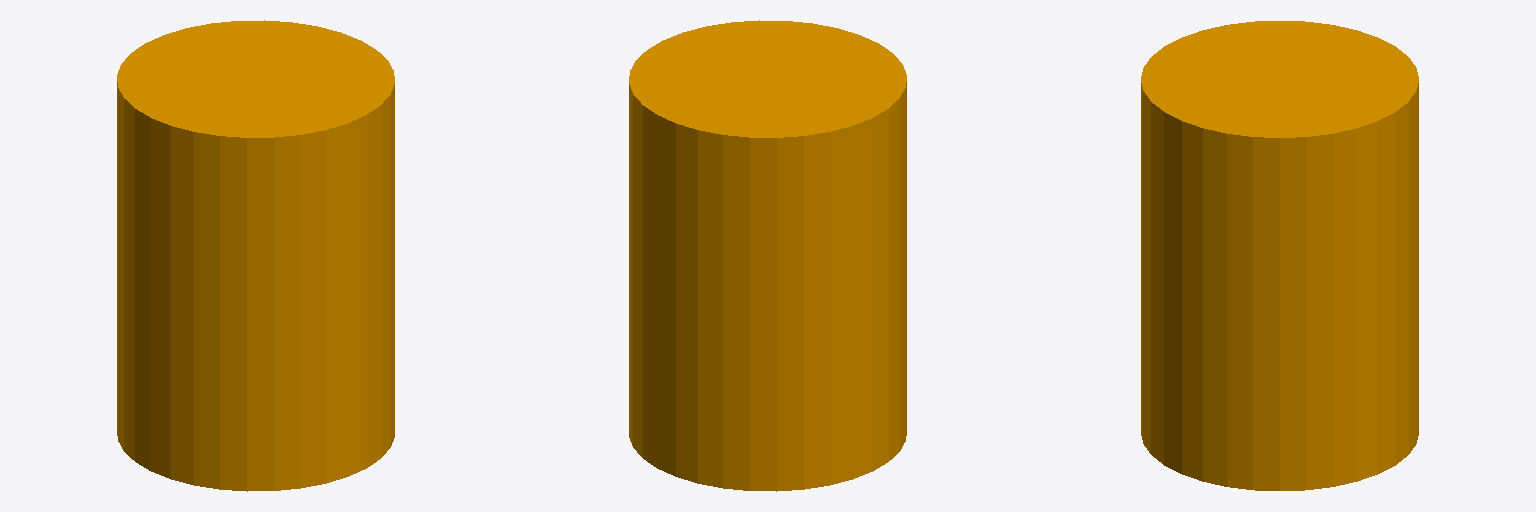
URDF robot description (can_1):
<?xml version="1.0"?>
<robot name="can_1">
	<link name="base">
	<inertial>
        	 <origin xyz="0 0 0.07" rpy="0 0 0"/>
        	 <mass value="0.05"/>
        	 <inertia ixx="0.000683333"  ixy="0"  ixz="0" iyy="0.000683333" iyz="0" izz="0.000683333" />
       </inertial>
	<visual>
                <origin xyz="0.0 0.0 0.055" rpy="0 0 0" />
		<geometry>
                         <!--<mesh filename="can/cokecan2.dae" scale="0.0254 0.0254 0.0254"/>-->
            <cylinder length="0.07" radius="0.025"/>
      		</geometry>
		<!--material>
                    <color rgba="0 0 1 1" />
		</material-->
		</visual>
  	 <collision>
		<origin xyz="0.0 0.0 -0.00255" rpy="0 0 0"/>
            <geometry>
       			 <!--mesh filename="can/cokecan.dae"  scale="0.0254 0.0254 0.0254"/-->
                         <cylinder length="0.07" radius="0.025"/>
            </geometry>
	    <material>
			<color rgba="1 0 0 1" />
	    </material>
        </collision>
	</link>
</robot>

--- Facts derived from the render (not from the file) ---
Views: 3 orthographic renders of the robot side by side, from view 1: azimuth 30°, elevation 25°; view 2: azimuth 150°, elevation 25°; view 3: azimuth 270°, elevation 25°.
Model can_1 with 1 links and 0 joints (none), rooted at base, posed all joints at 0.
Visible links, largest first — view 1: base; view 2: base; view 3: base.
Link boxes in pixels (<box>): base: <box>117,20,394,491</box>; base: <box>629,20,906,491</box>; base: <box>1141,21,1418,490</box>.
Bounding box of the posed robot: 0.05 × 0.05 × 0.07 m (x, y, z).
Geometry: primitives only (box / cylinder / sphere), no mesh files.
